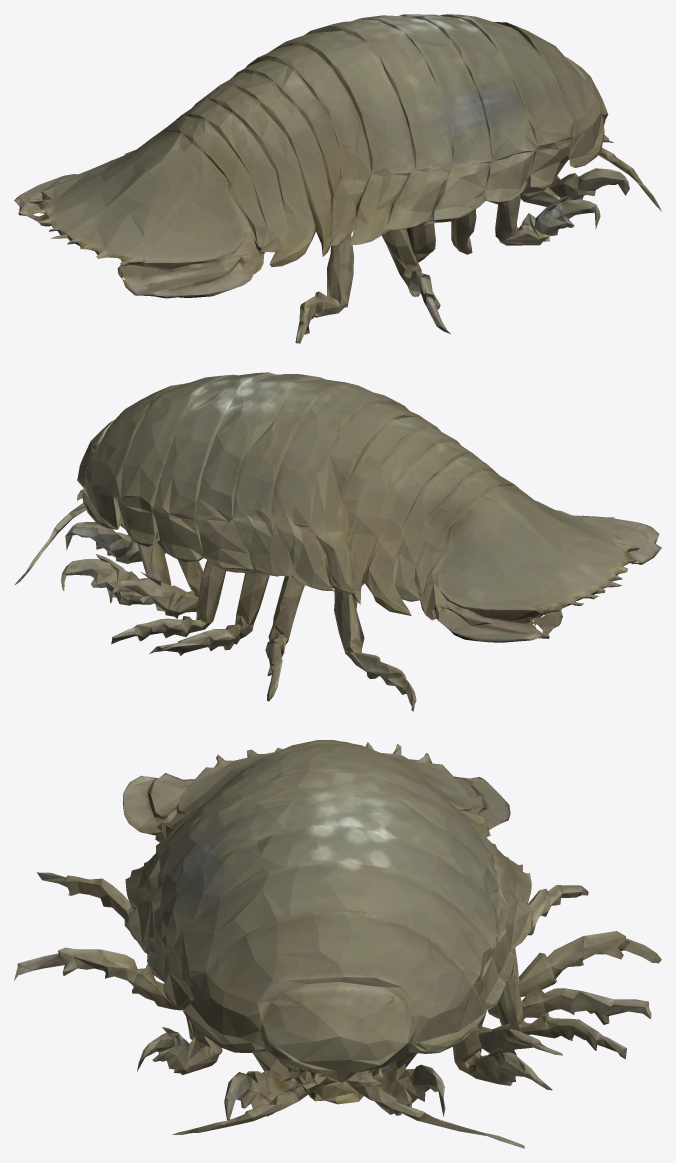
Rendered from isopod.glb.
The picture shows the model from 3 angles, top to bottom: view 1: azimuth 30°, elevation 25°; view 2: azimuth 150°, elevation 25°; view 3: azimuth 270°, elevation 25°; orthographic projection. The views are drawn at different scales.
Visible parts, largest first — view 1: Object_4; view 2: Object_4; view 3: Object_4.
Boxes of the visible parts, x1,y1,x2,y2 form: Object_4: [14, 14, 661, 343]; Object_4: [15, 372, 661, 711]; Object_4: [14, 740, 661, 1148].
Bounding box in the file's own units: 203 × 72.01 × 172.
Materials: 1 (1 with a texture image).
